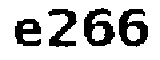2: (47, 6, 80, 50)
6: (81, 6, 116, 48), (118, 8, 150, 48)
e: (10, 17, 42, 50)
